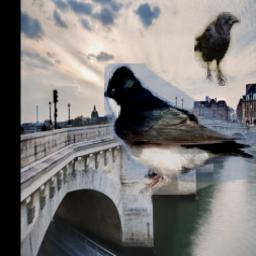Crow: (194, 13, 241, 87)
Swallow: (103, 63, 256, 195)
